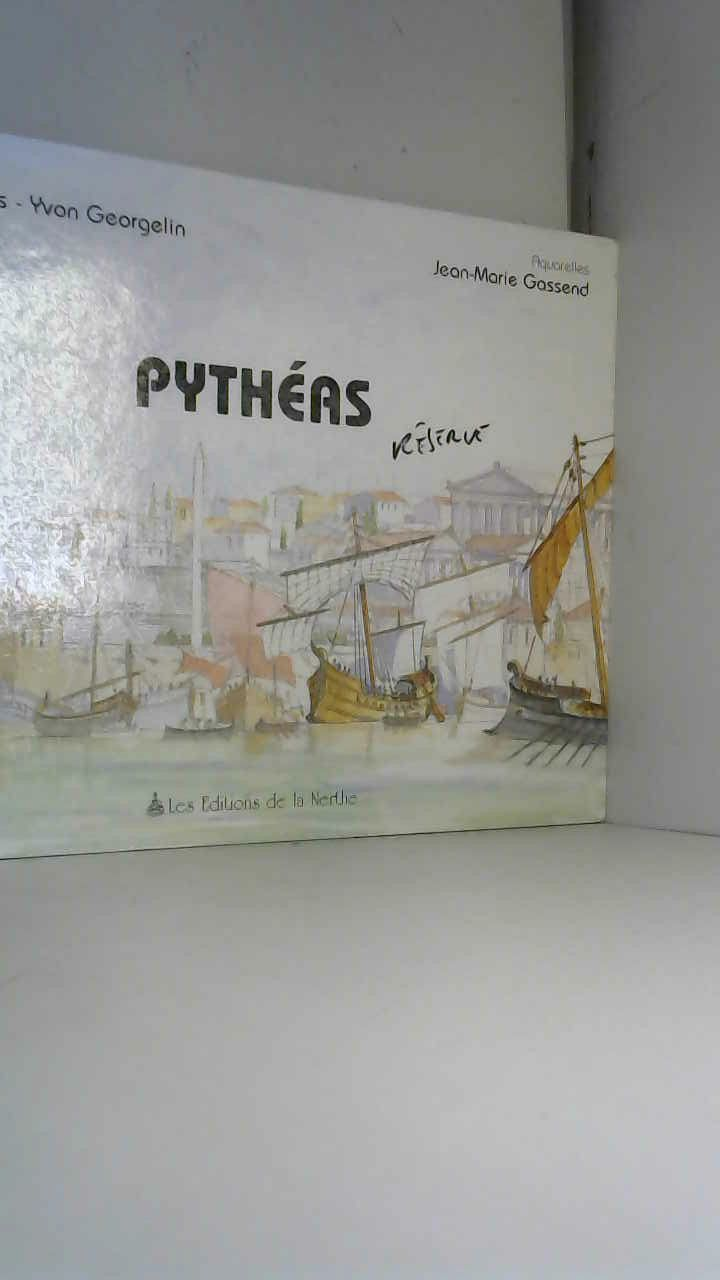book: (0, 115, 663, 884)
